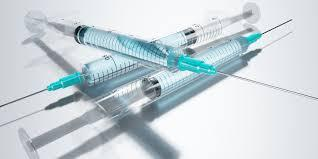Syringe: (33, 3, 259, 72), (19, 82, 137, 157), (196, 31, 317, 99), (0, 54, 140, 106), (74, 26, 212, 73), (187, 28, 255, 55)
